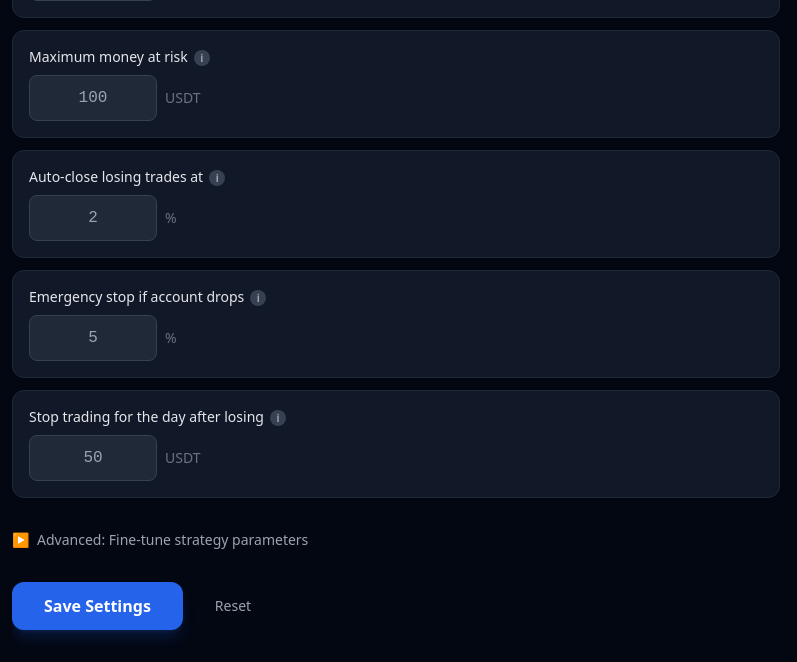
Scenario: SettingsPage › save button sends PUT /api/config and shows success toast
The width and height of the screenshot is (797, 662).
(page scrolled)
Click the button with test id "save-button" at (97, 606), box left=12, top=582, right=183, bottom=630
(page scrolled)
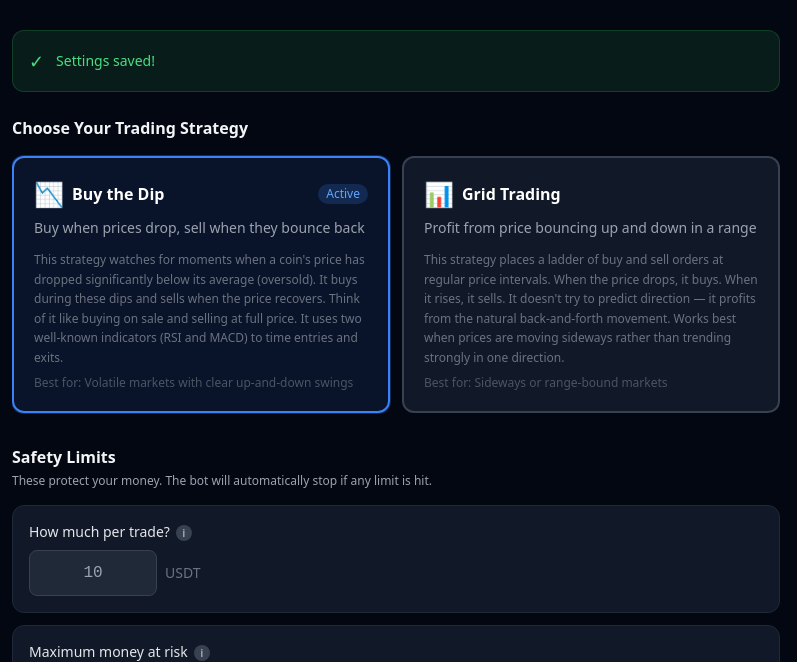
Now the element with test id "toast-success" is shown, box left=12, top=30, right=780, bottom=92
Now the element with test id "toast-success" shows "saved", box left=56, top=51, right=155, bottom=70
